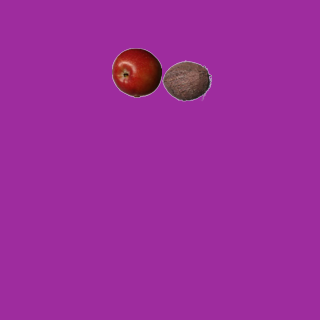Apple Braeburn: (111, 47, 161, 97)
Cocos: (161, 55, 211, 105)
